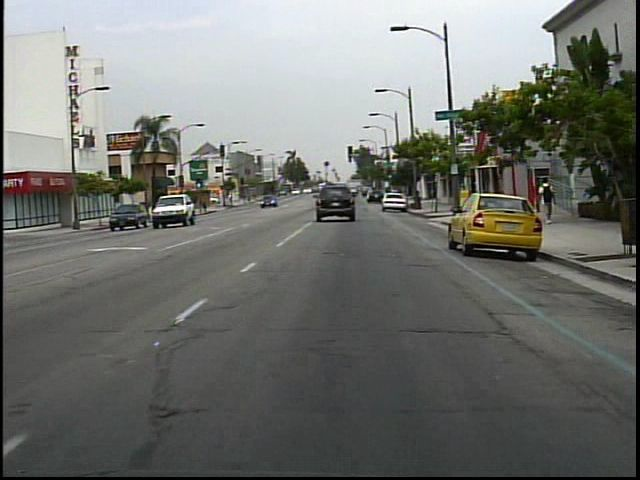person: (537, 171, 559, 226)
